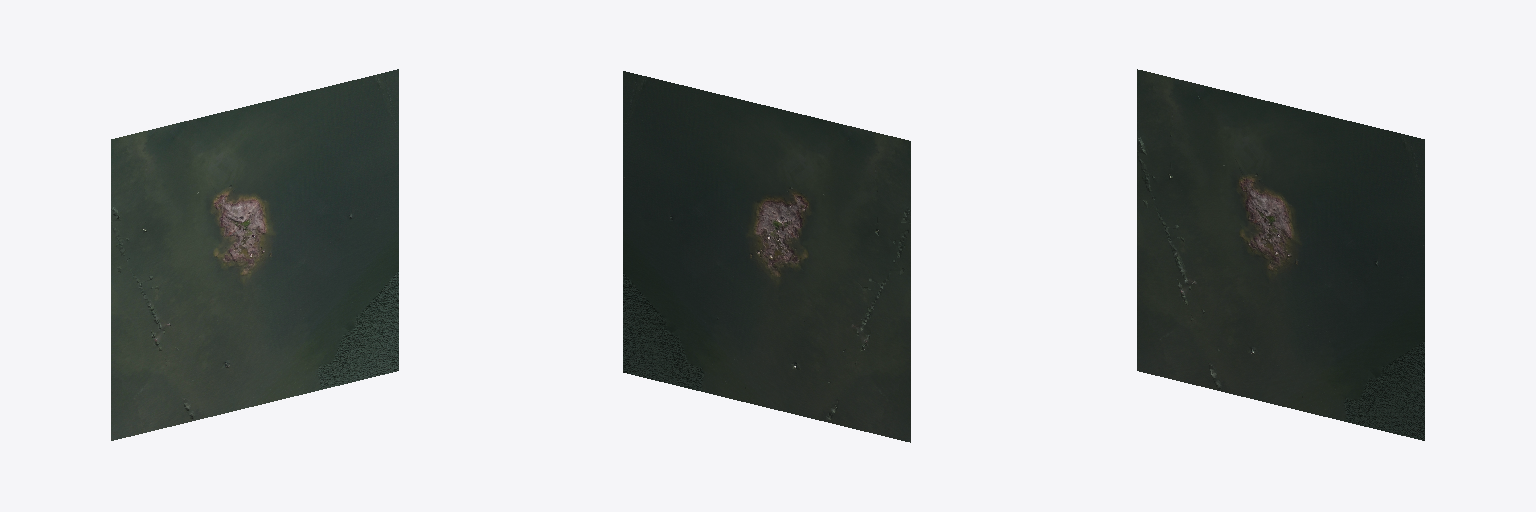
3 renders of one model, left to right at view 1: azimuth 30°, elevation 25°; view 2: azimuth 150°, elevation 25°; view 3: azimuth 330°, elevation 25°, orthographic.
Size of the model in its own units: 252 by 252 by 4.71.
2 materials, 1 textured.